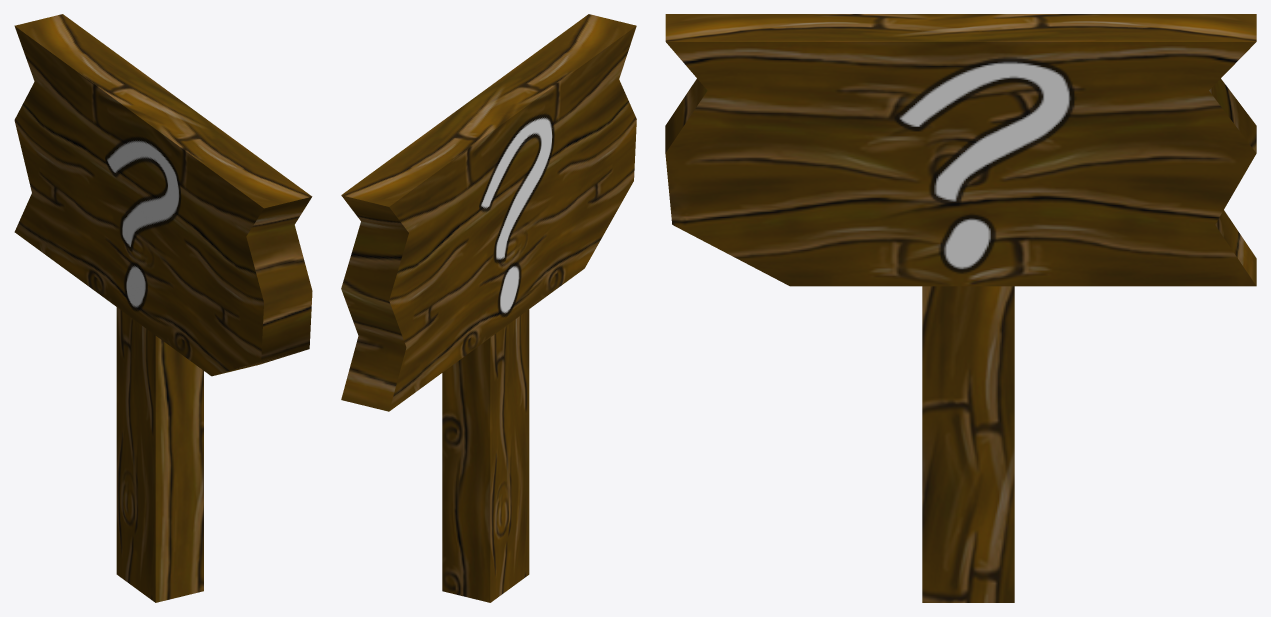
File: road_sign.fbx
3 views of the same model, side by side, from view 1: azimuth 30°, elevation 25°; view 2: azimuth 150°, elevation 25°; view 3: azimuth 270°, elevation 25° (orthographic). The views are drawn at different scales.
Parts seen in each view (by area): view 1: pCube1; view 2: pCube1; view 3: pCube1.
Boxes of the visible parts, box(x1,y1,x2,y2) form: pCube1: box(14, 14, 312, 602); pCube1: box(341, 14, 636, 602); pCube1: box(665, 14, 1256, 602).
Size of the model in its own units: 6.4 by 59.86 by 57.17.
